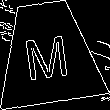M_N: (23, 25, 73, 81)
